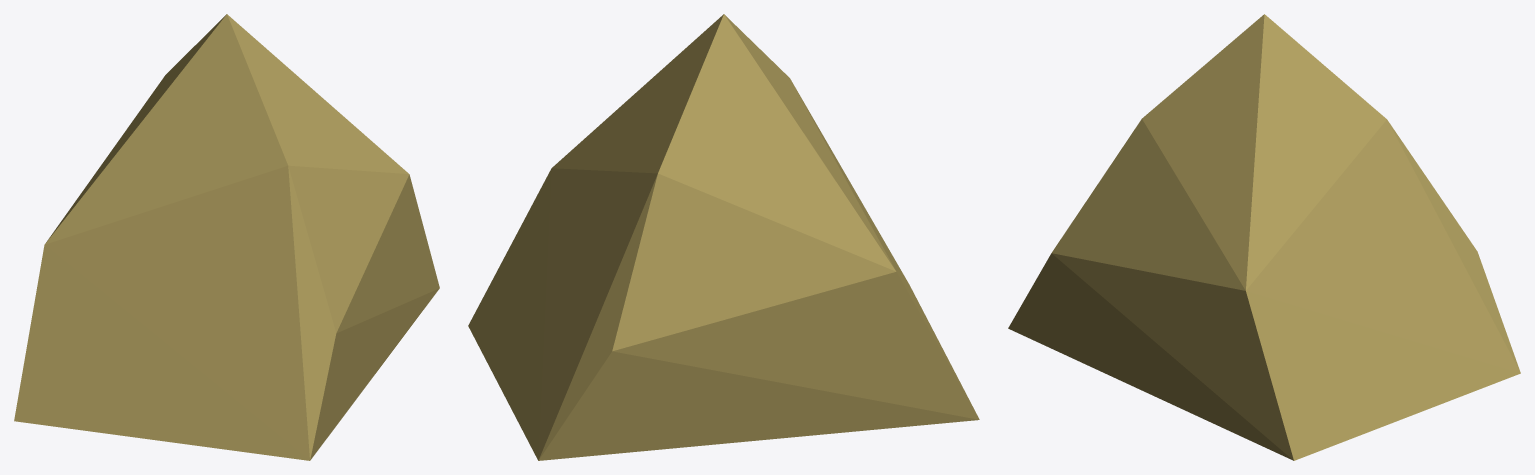
File: Plant_5.lod4.glb
3 renders of one model, left to right at view 1: azimuth 30°, elevation 25°; view 2: azimuth 150°, elevation 25°; view 3: azimuth 270°, elevation 25°, orthographic. The views are drawn at different scales.
Parts seen in each view (by area): view 1: Plant_5; view 2: Plant_5; view 3: Plant_5.
Part boxes in pixels (x1,y1,x2,y2): Plant_5: (14, 14, 439, 460); Plant_5: (468, 14, 979, 460); Plant_5: (1008, 14, 1520, 460).
Bounding box in the file's own units: 1.74 × 1.4 × 1.72.
